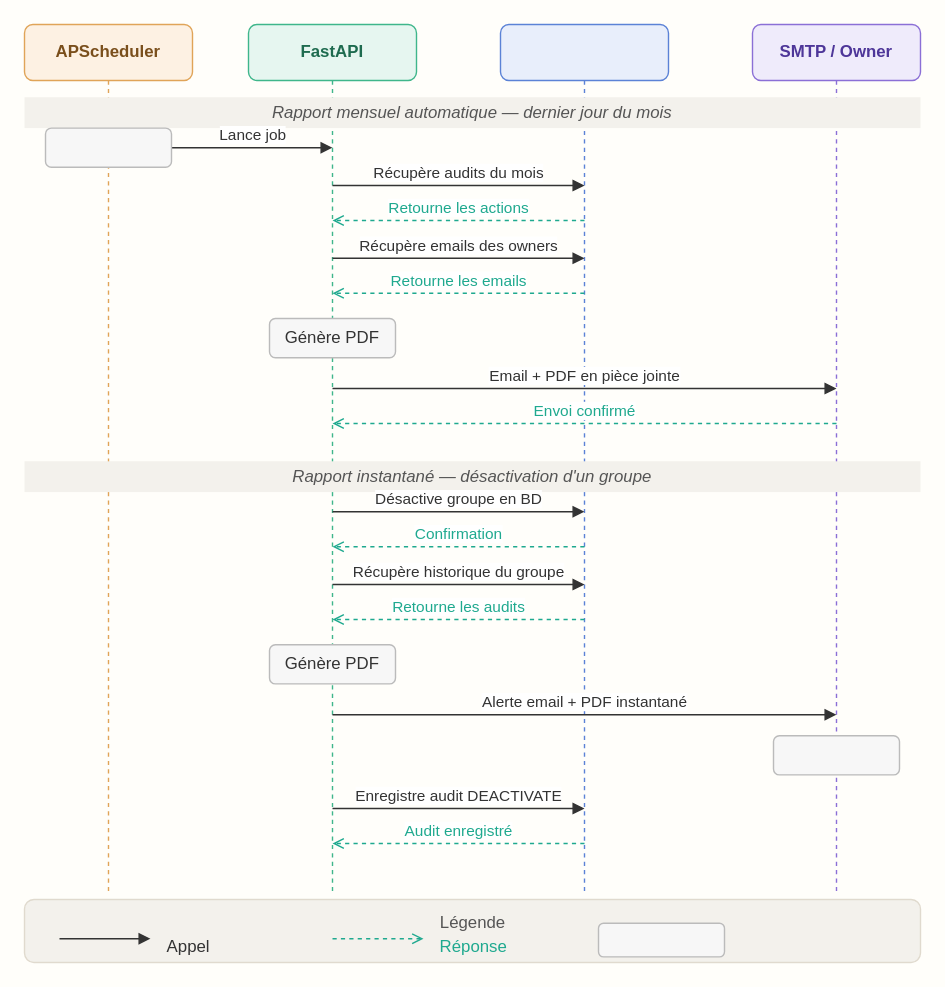
Image size: 945x987. Some labels were removed from this diagram. The centre of each missing label's shape, as x and y in pixels:
"Déclancher" goes at [108,147].
"MongoDB" goes at [583,457].
"Owner reçoit" goes at [835,754].
"Traitement" goes at [660,939].
